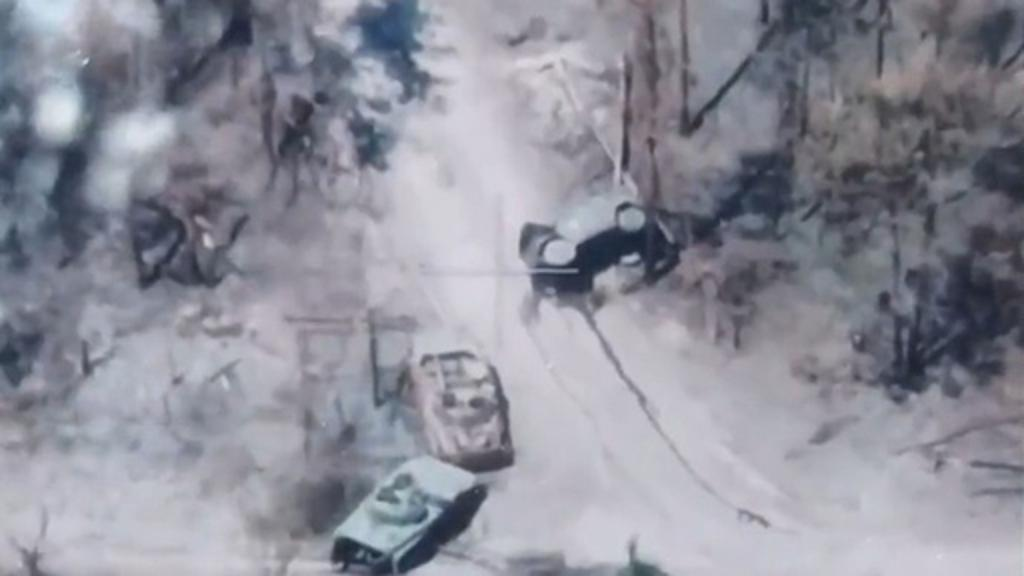APC-IFV: (334, 454, 478, 568), (412, 340, 516, 462)
CAR: (504, 178, 656, 298)
